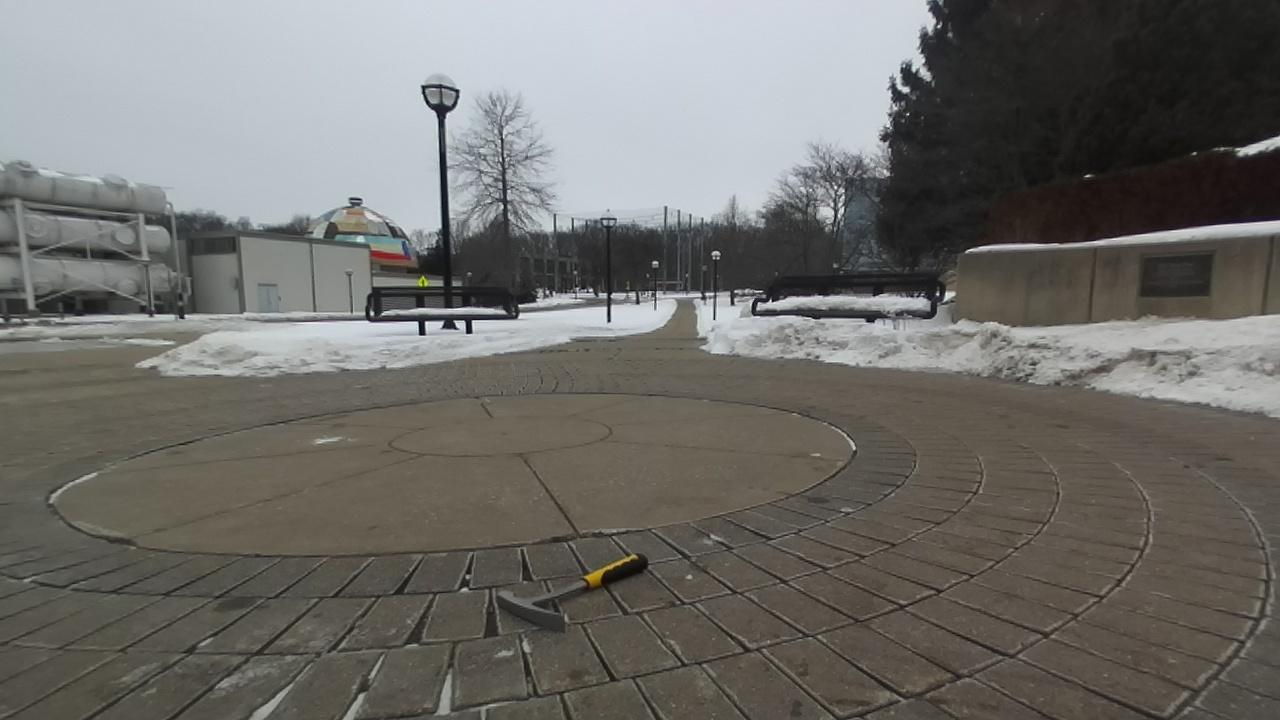pick: (497, 554, 648, 631)
